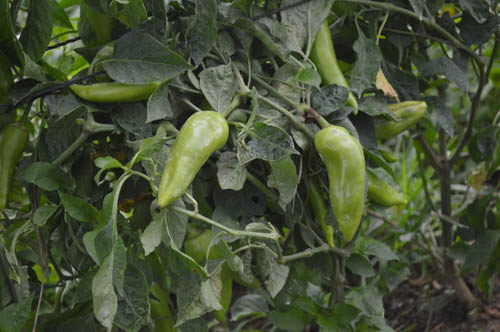ChiliPepper: (153, 112, 230, 208), (318, 126, 365, 239), (189, 230, 232, 316), (312, 25, 354, 108), (1, 126, 33, 210), (68, 84, 165, 104), (376, 102, 428, 139)
